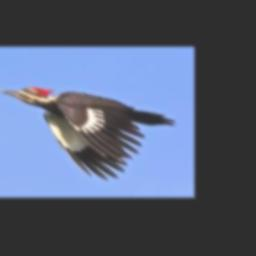Woodpecker: (1, 87, 176, 180)
